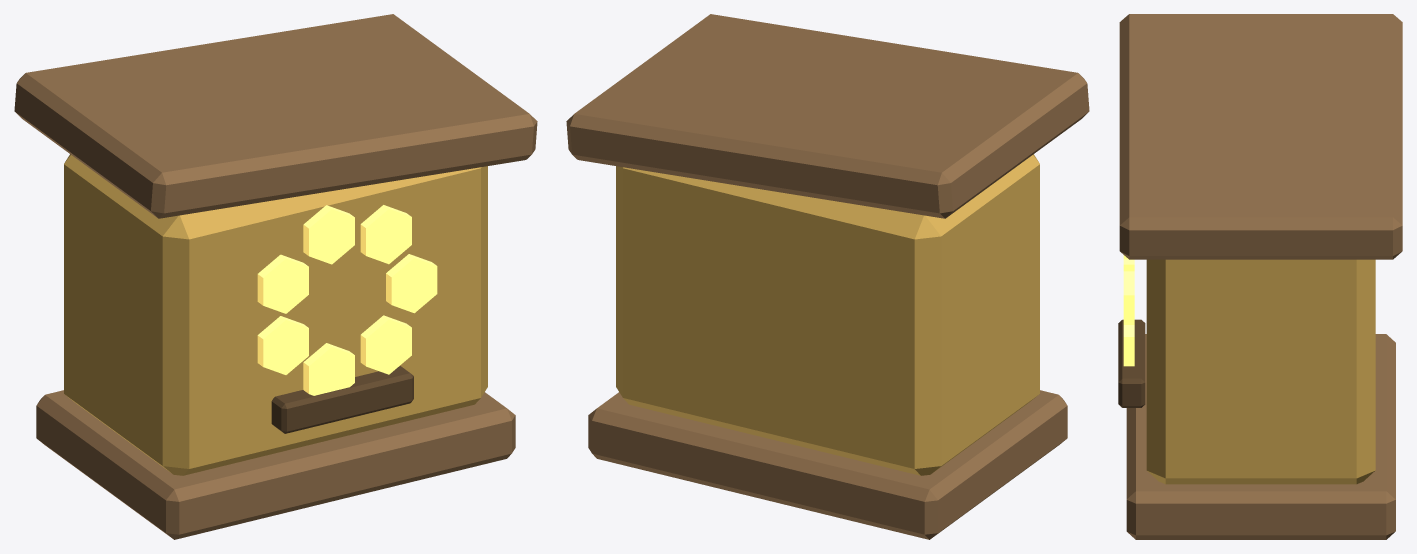
The model's file is orchard_honey_hive.glb.
The picture shows the model from 3 angles, left to right: view 1: azimuth 30°, elevation 25°; view 2: azimuth 150°, elevation 25°; view 3: azimuth 270°, elevation 25°; orthographic projection. The views are drawn at different scales.
Bounding box in the file's own units: 1.6 × 1.48 × 1.06.
